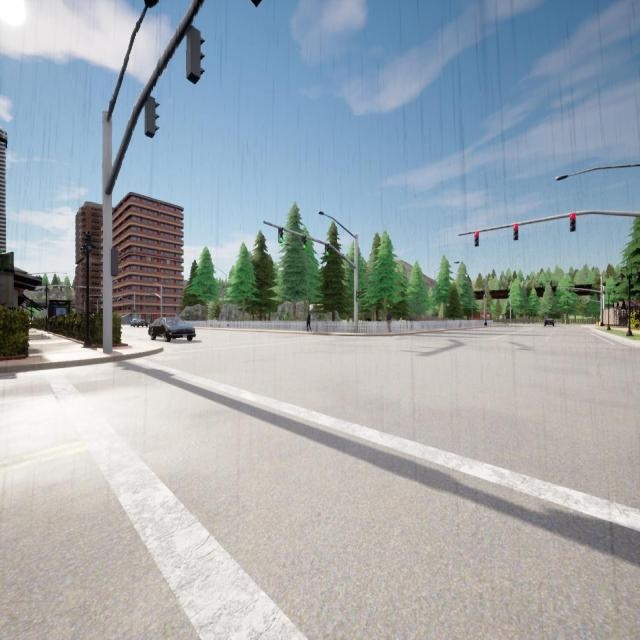Pedestrian: (386, 311, 392, 332), (306, 312, 312, 332)
Traffic_Signs: (500, 316, 502, 318)
Vehicle: (148, 317, 194, 341), (130, 318, 148, 328), (544, 318, 554, 326)
traffic_light: (186, 26, 205, 84), (145, 97, 160, 138), (111, 249, 118, 275), (570, 213, 576, 230), (278, 227, 283, 243), (514, 224, 518, 240), (302, 235, 306, 250), (474, 232, 478, 246), (326, 244, 330, 256), (356, 290, 359, 302), (567, 298, 568, 302), (580, 299, 581, 302), (558, 299, 558, 303), (570, 288, 570, 293)
